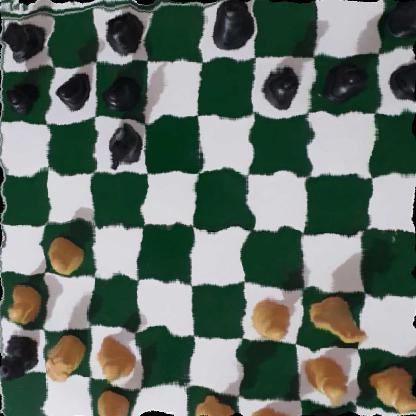black-bishop: (97, 10, 150, 55), (302, 403, 354, 416)
black-king: (204, 0, 256, 52)
black-knight: (104, 116, 148, 170)
black-pawn: (321, 58, 372, 102), (259, 61, 303, 105), (101, 69, 141, 115), (385, 56, 416, 106), (57, 69, 93, 110), (6, 75, 39, 116)
black-queen: (0, 329, 42, 387)
black-rook: (0, 12, 47, 62), (388, 0, 416, 39)
white-bishop: (95, 385, 139, 416), (247, 403, 298, 416)
white-king: (192, 393, 236, 416)
white-knight: (301, 291, 376, 346)
white-pawn: (297, 347, 351, 402), (368, 362, 416, 411), (248, 296, 293, 343), (95, 334, 134, 386), (3, 277, 38, 329), (46, 233, 87, 272)
white-rook: (45, 331, 81, 382)
